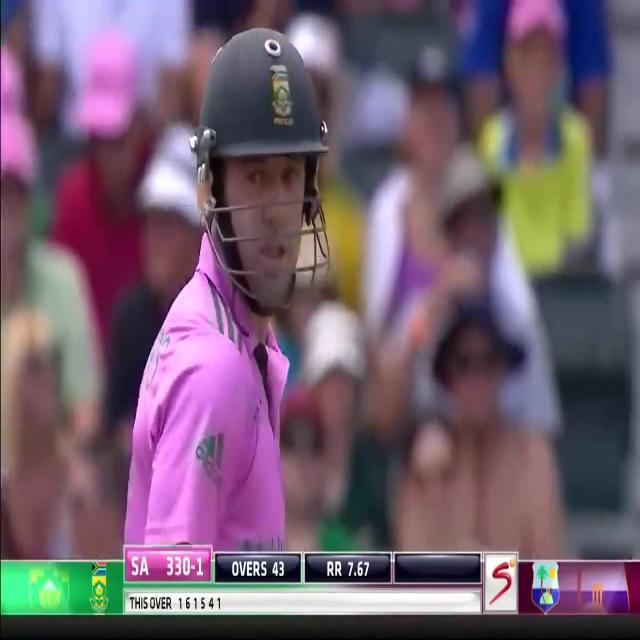Ball: (124, 26, 337, 555)
